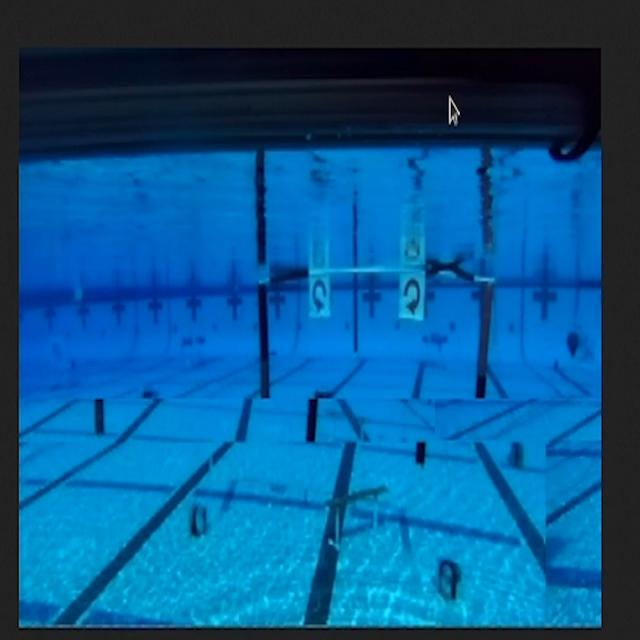Gate: (253, 263, 494, 417)
